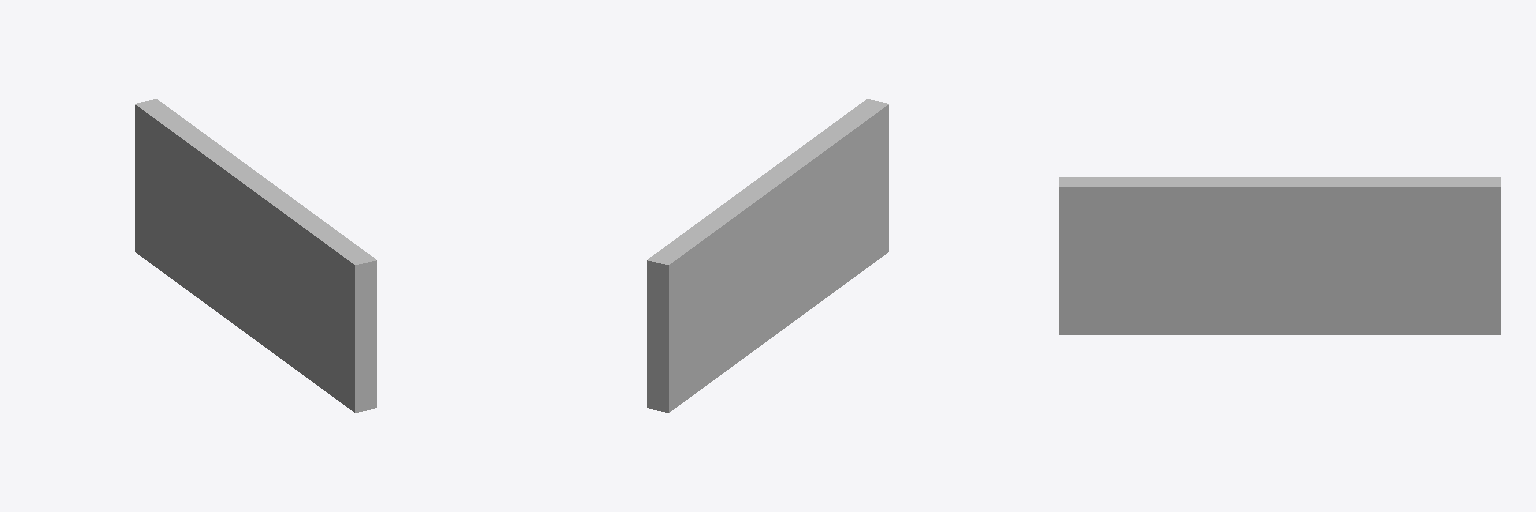
Rendered from Wall1.obj.
3 renders of one model, left to right at view 1: azimuth 30°, elevation 25°; view 2: azimuth 150°, elevation 25°; view 3: azimuth 270°, elevation 25°, orthographic.
Parts seen in each view (by area): view 1: pCube1; view 2: pCube1; view 3: pCube1.
Part boxes in pixels (bbox=[...]): pCube1: bbox=[135, 99, 376, 412]; pCube1: bbox=[647, 99, 888, 412]; pCube1: bbox=[1059, 177, 1500, 334].
Size of the model in its own units: 1.98 by 12.8 by 34.62.